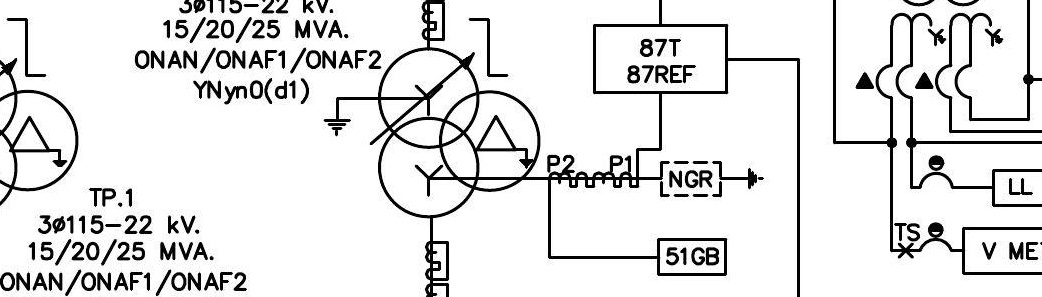11522_tx_ynyn0d1: (377, 46, 542, 220)
NGR_future: (659, 161, 765, 198)
